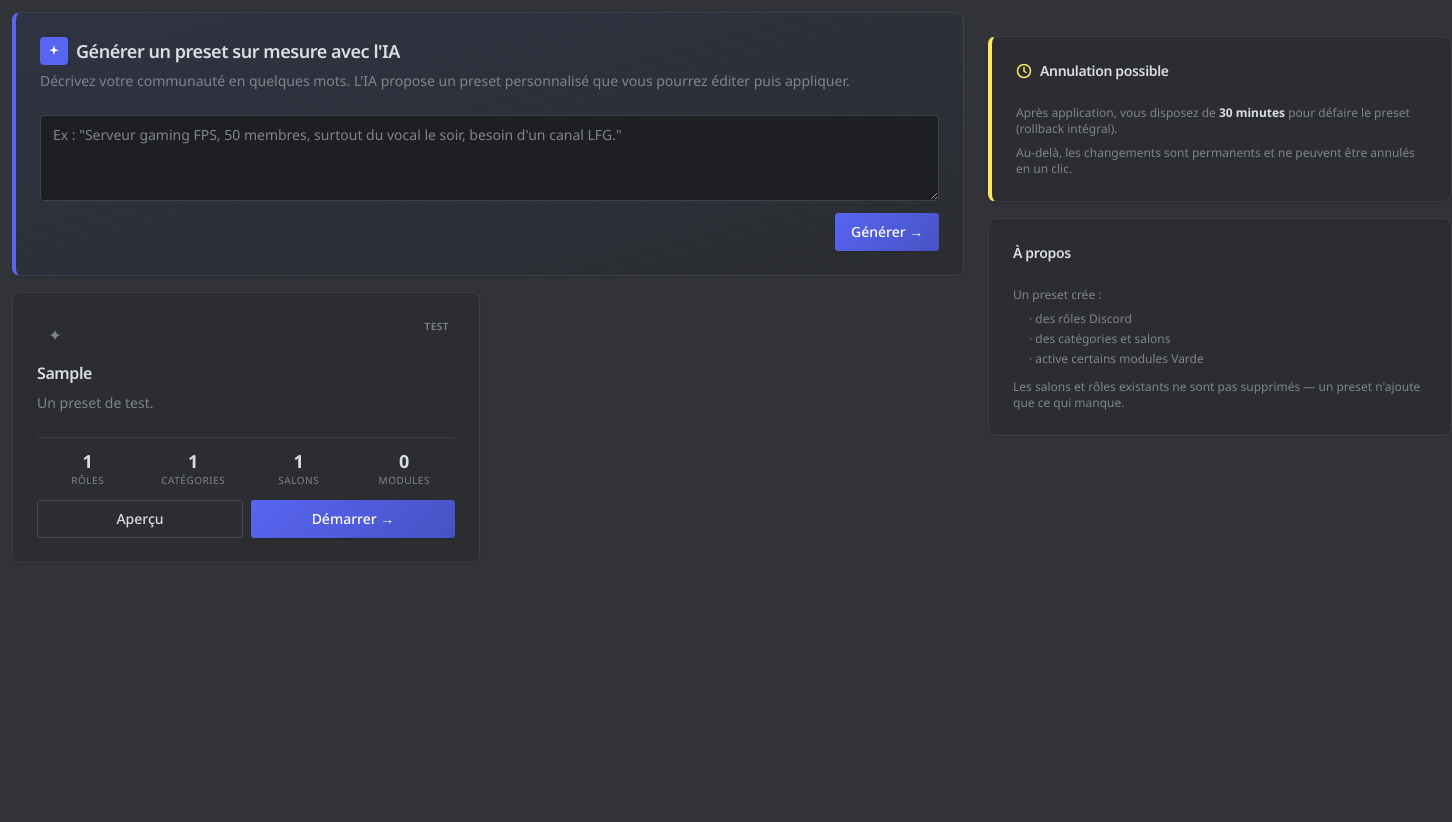
PresetPicker › remonte l'erreur server action à l'écran
Click the button with aria-label "Démarrer avec le preset Sample": (353, 519) [251,500,455,538]
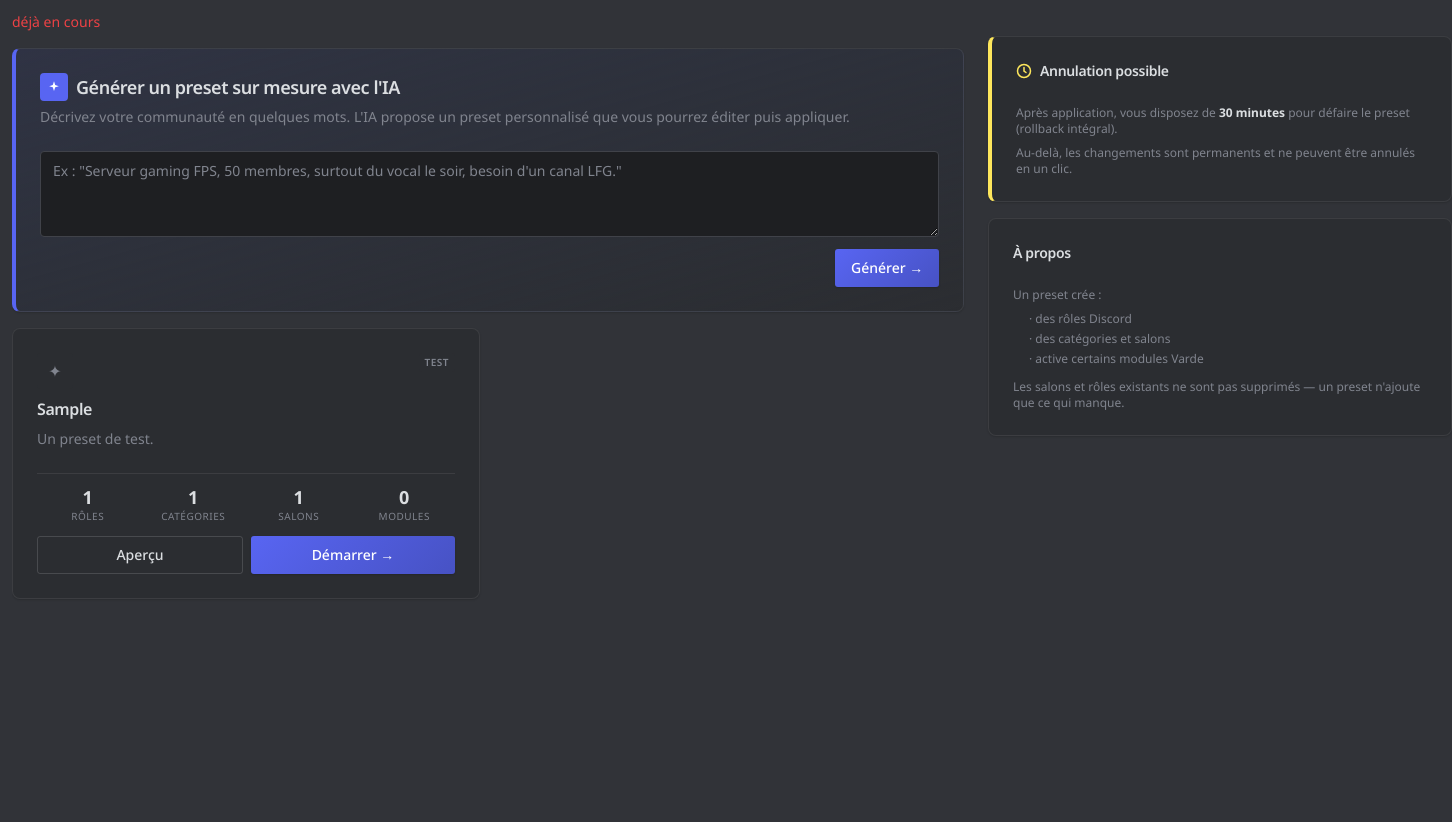
Expected: the message reads "déjà en cours", [12,12,100,31]
